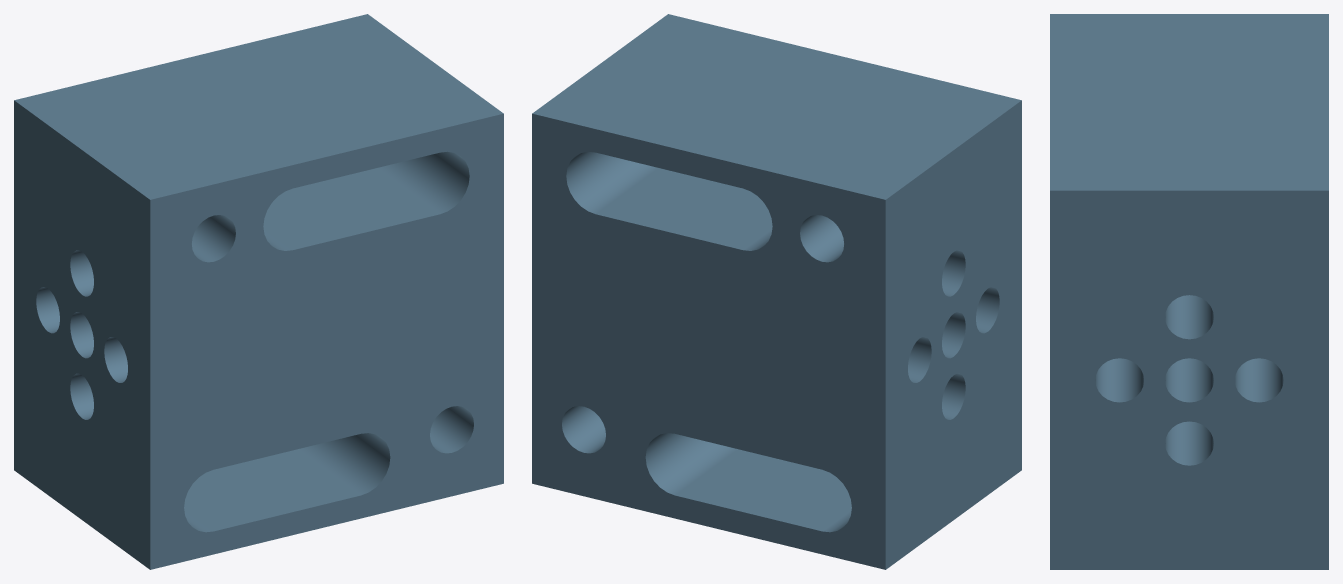
Rendered from communication_module.dae.
The picture shows the model from 3 angles, left to right: view 1: azimuth 30°, elevation 25°; view 2: azimuth 150°, elevation 25°; view 3: azimuth 270°, elevation 25°; orthographic projection. The views are drawn at different scales.
Parts seen in each view (by area): view 1: Body_1; view 2: Body_1; view 3: Body_1.
Part boxes in pixels (x1,y1,x2,y2): Body_1: (14,14,503,569); Body_1: (532,14,1021,569); Body_1: (1050,14,1328,569).
Bounding box in the file's own units: 0.0762 × 0.0508 × 0.0762.
